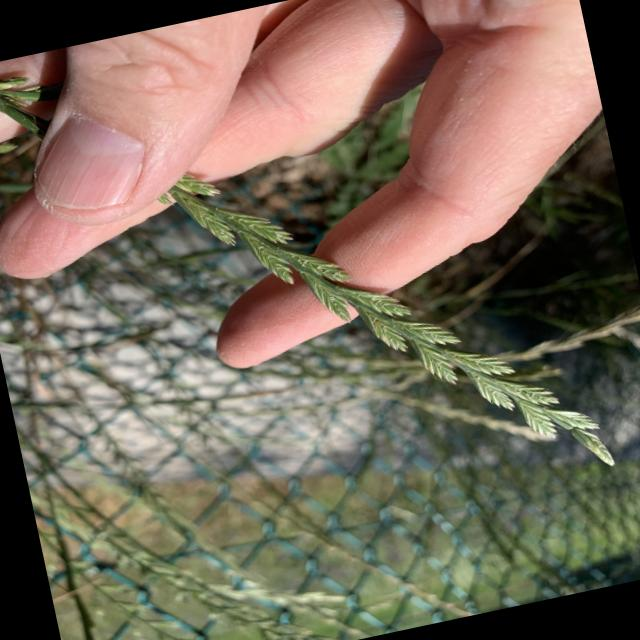Lolium: (0, 0, 621, 586)
